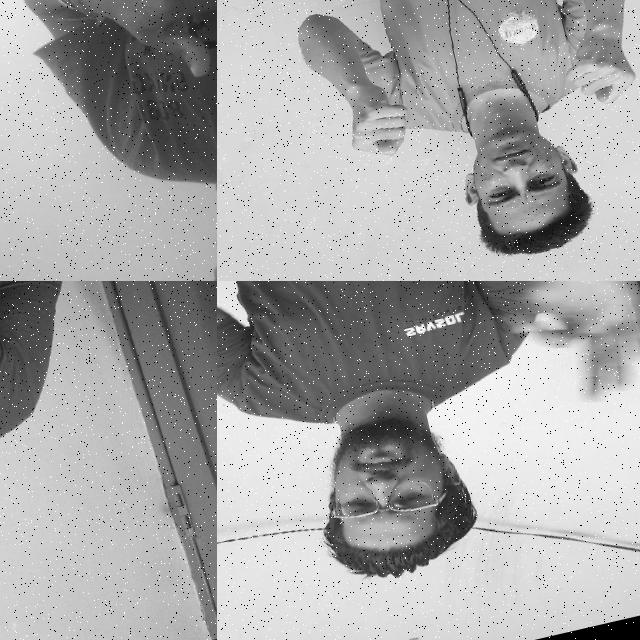Dulya: (330, 66, 425, 172), (550, 13, 640, 120)
Five Fathers: (69, 0, 217, 103)
Okay: (486, 281, 640, 432)
